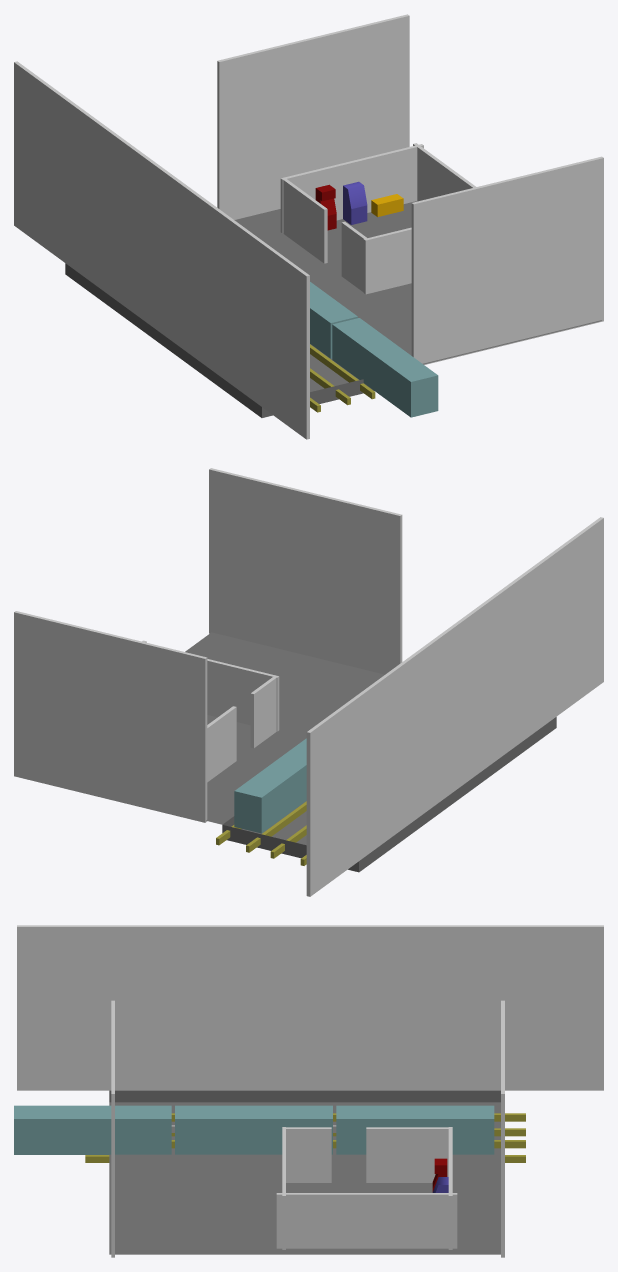
The model's file is SM_blockout_01.fbx.
3 renders of one model, top to bottom at view 1: azimuth 30°, elevation 25°; view 2: azimuth 150°, elevation 25°; view 3: azimuth 270°, elevation 25°, orthographic.
Visible parts, largest first — view 1: SM_blockout_01, SM_talent_01, SM_shop_01, SM_warehouse_01; view 2: SM_blockout_01; view 3: SM_blockout_01.
Boxes of the visible parts, x1,y1,x2,y2 form: SM_blockout_01: (14,14,603,439); SM_talent_01: (343,181,367,224); SM_shop_01: (315,184,336,230); SM_warehouse_01: (371,194,403,216); SM_blockout_01: (14,468,603,896); SM_blockout_01: (14,925,603,1257).
Size of the model in its own units: 5055 by 2466 by 7477.
